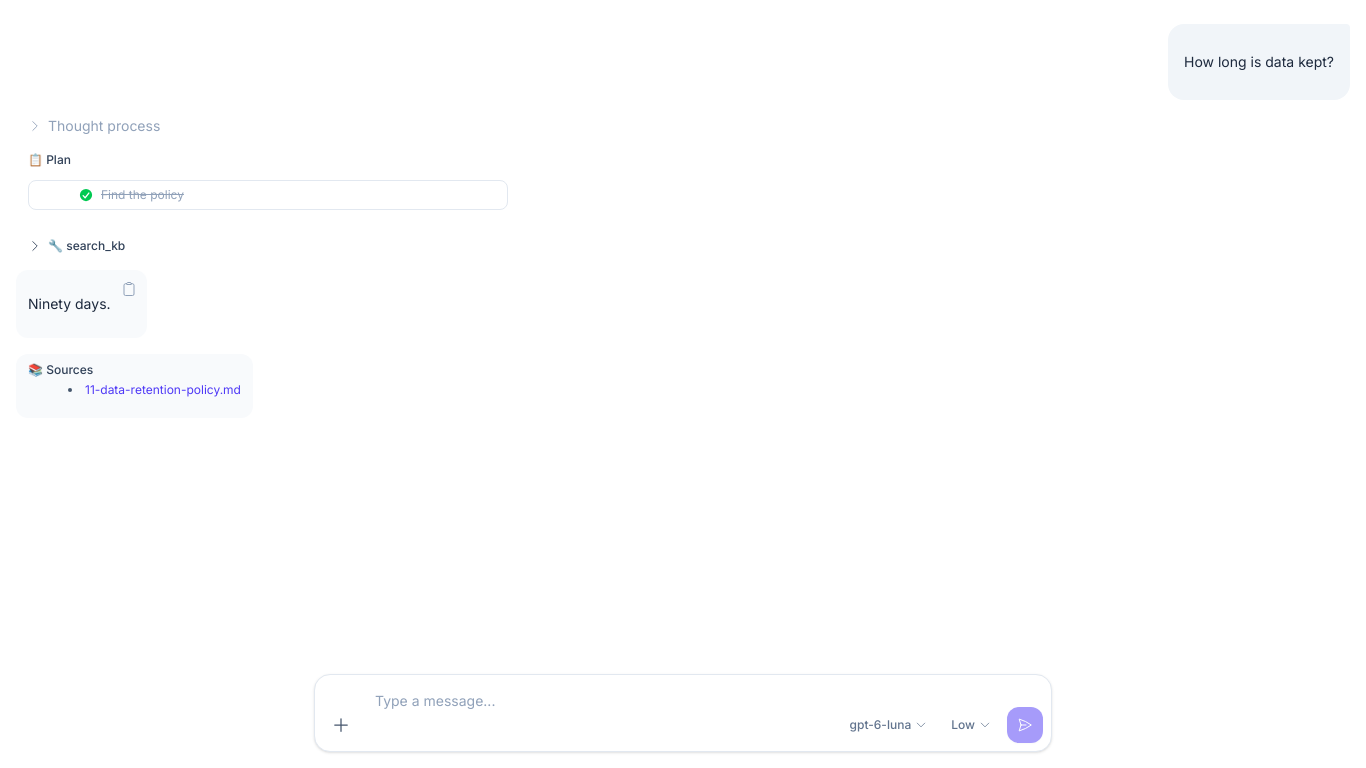
ChatPage › loads a saved conversation from its URL, reasoning and plan included
The image size is (1366, 768).
Check: the text "Ninety days." is shown, box [28,292,111,316]
Check: the text "How long is data kept?" is shown, box [1184,50,1334,74]
Step 1. Click the button "Thought process" → click(94, 126), box [28,116,160,136]
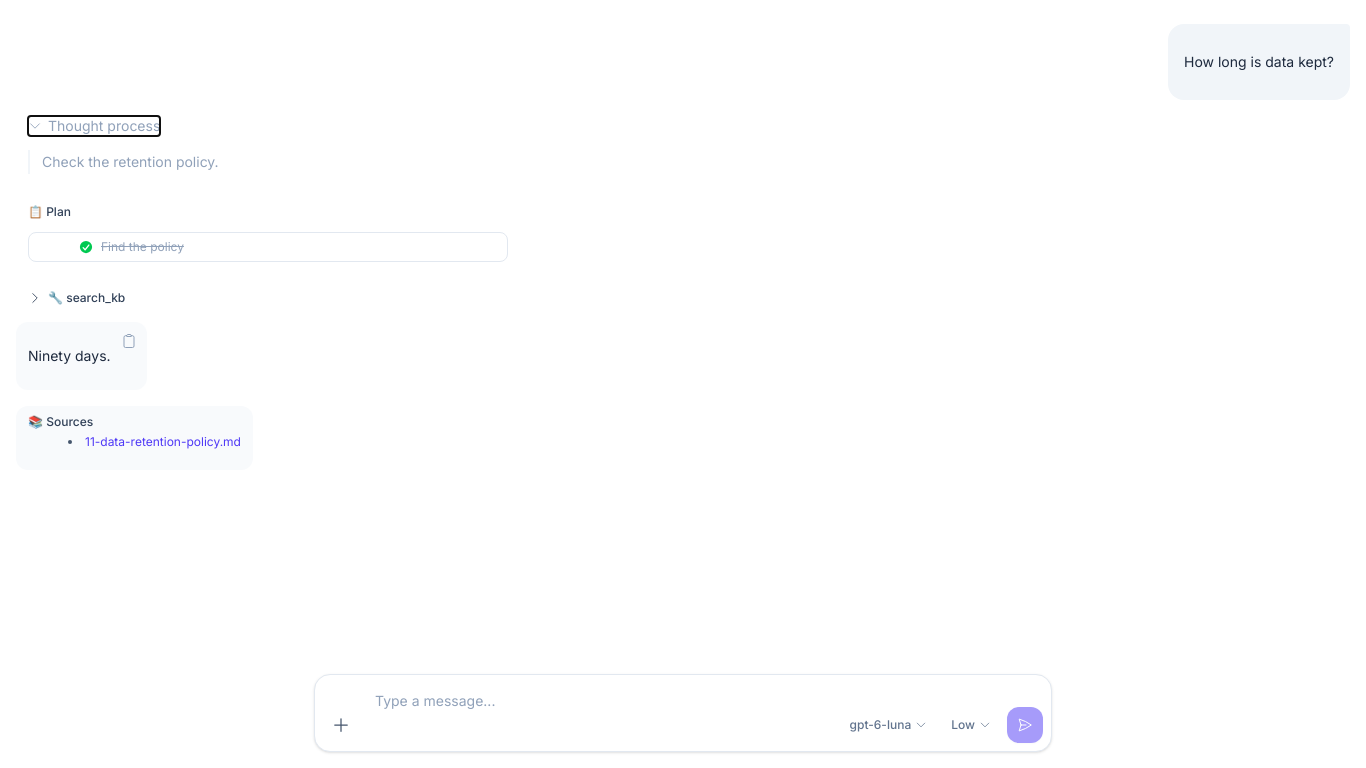
Check: the text "Find the policy" is shown, box [101,239,184,255]
Check: the text "Check the retention policy." is shown, box [42,150,219,174]
